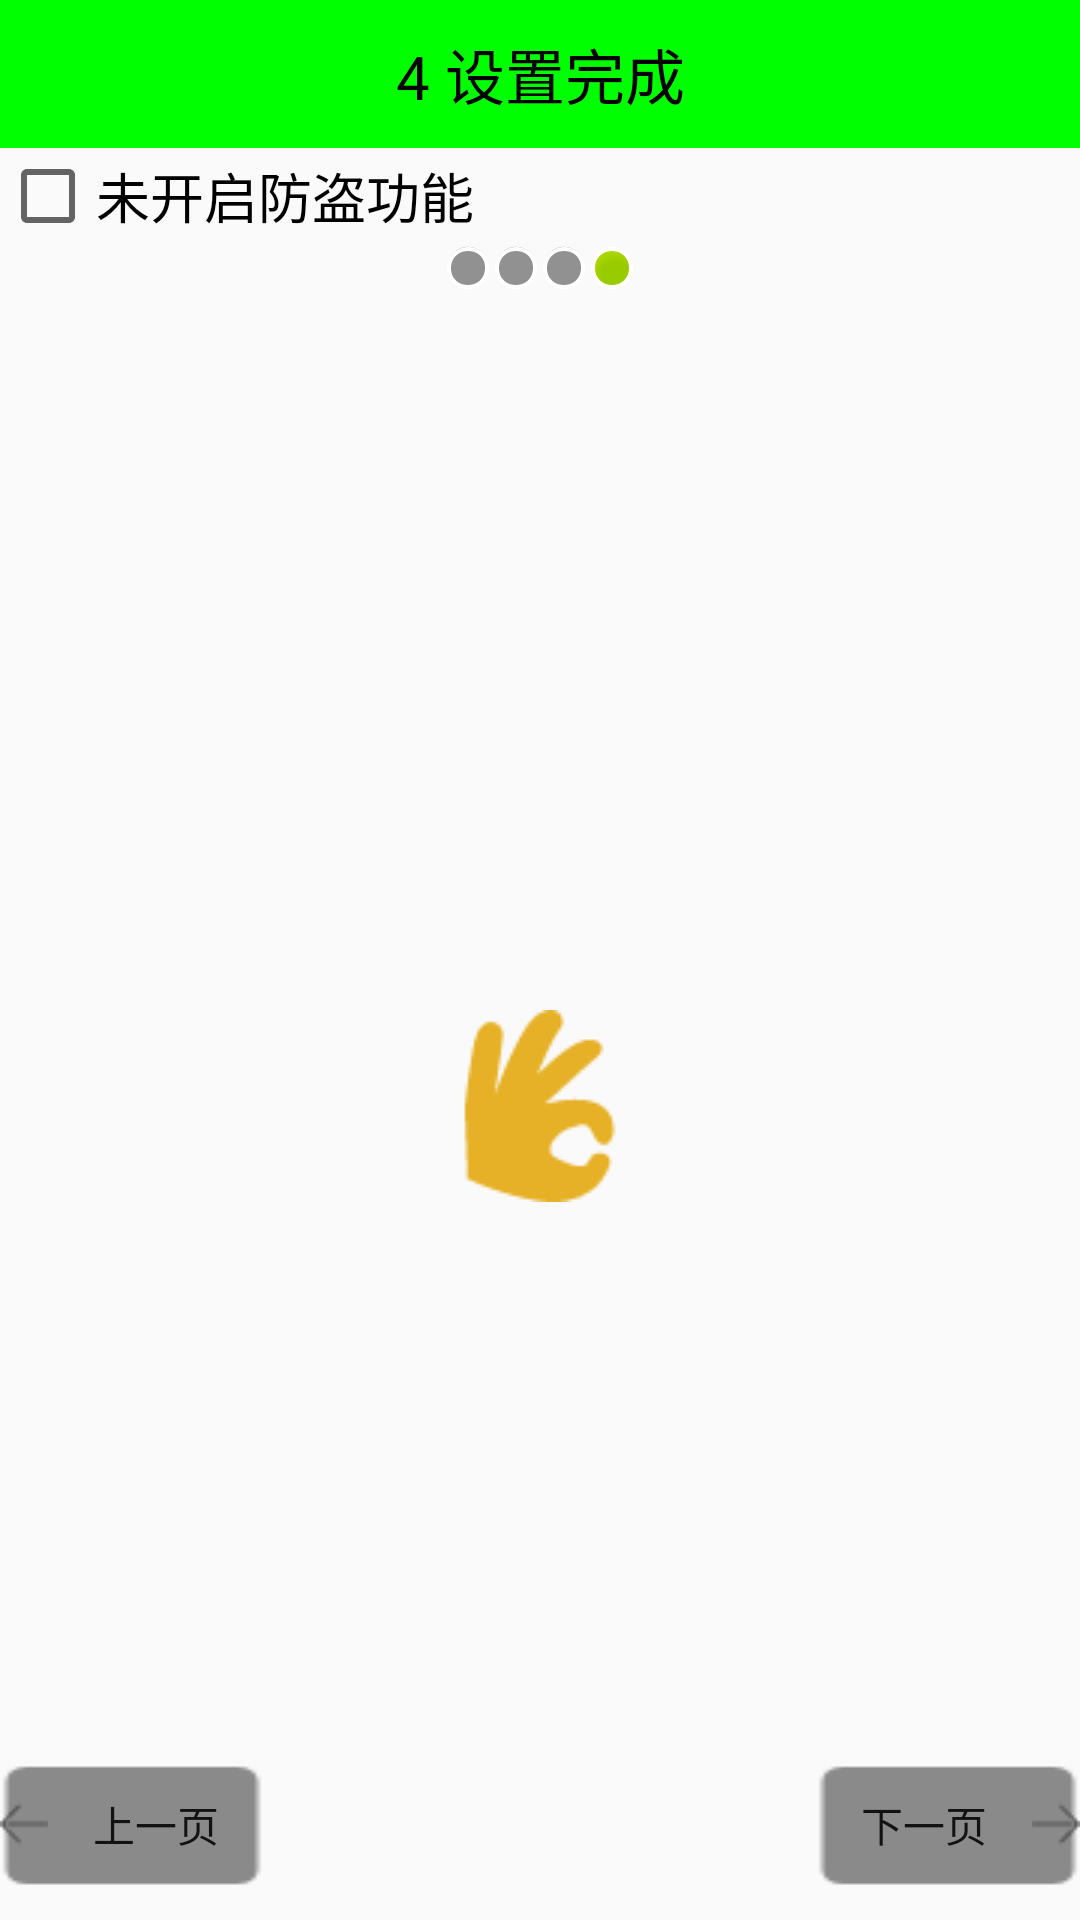

Icons on this 1080×1920 Android screen, each with its box as {"left": x1, "top": y1, "right": x2, "bottom": y2}:
presence invisible: {"left": 451, "top": 247, "right": 485, "bottom": 285}, {"left": 499, "top": 247, "right": 533, "bottom": 285}, {"left": 547, "top": 247, "right": 581, "bottom": 285}
presence online: {"left": 595, "top": 251, "right": 629, "bottom": 285}
setup ok: {"left": 464, "top": 1010, "right": 616, "bottom": 1202}
